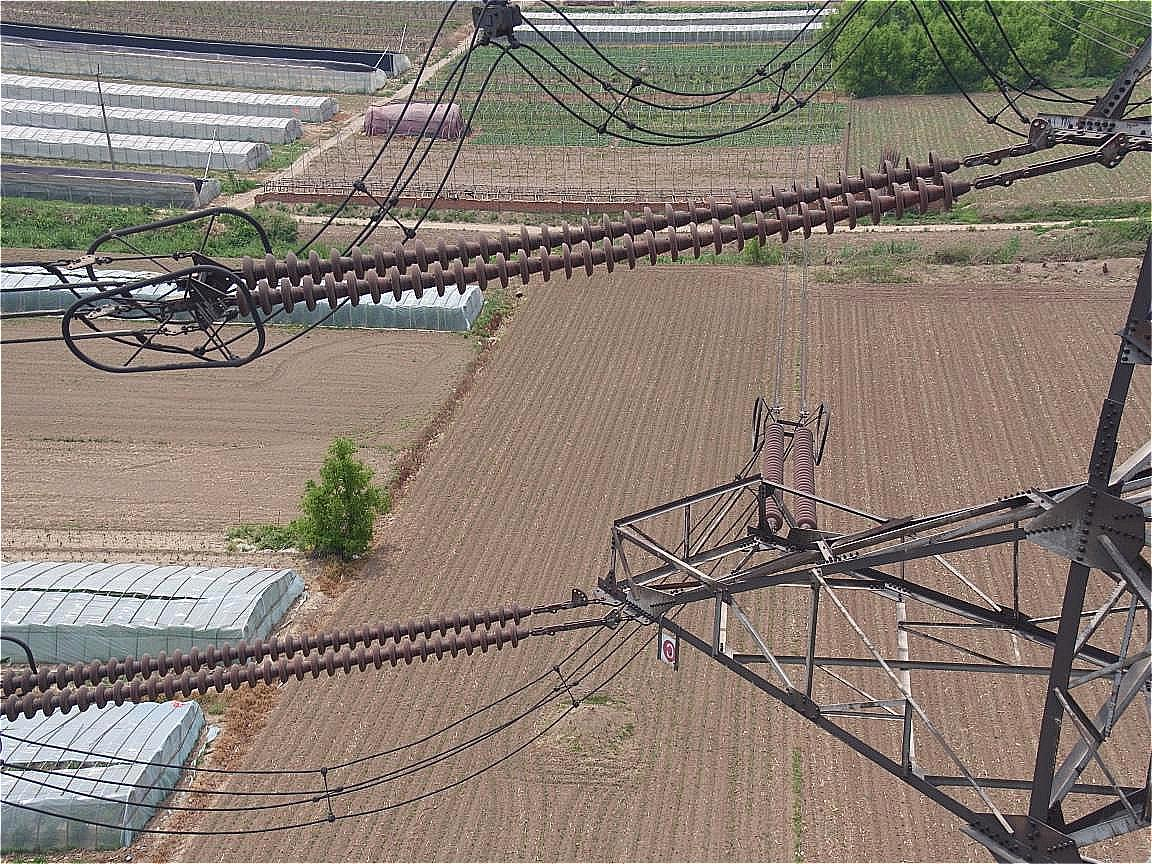insultor1: (208, 134, 983, 328), (1, 591, 540, 732)
